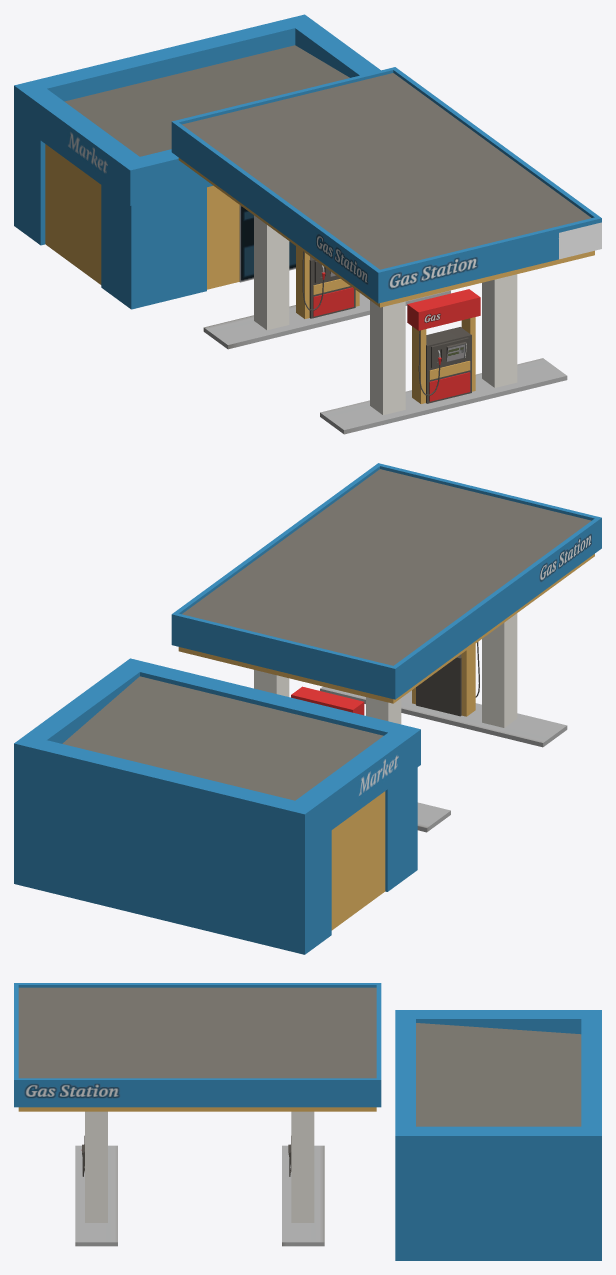
Rendered from Building_Gas Station.fbx.
The picture shows the model from 3 angles, top to bottom: view 1: azimuth 30°, elevation 25°; view 2: azimuth 150°, elevation 25°; view 3: azimuth 270°, elevation 25°; orthographic projection. The views are drawn at different scales.
Visible parts, largest first — view 1: Building_Gas Station; view 2: Building_Gas Station; view 3: Building_Gas Station.
Boxes of the visible parts, <box> form: Building_Gas Station: <box>14,14,601,434</box>; Building_Gas Station: <box>14,463,601,954</box>; Building_Gas Station: <box>14,983,601,1260</box>.
Bounding box in the file's own units: 1300 × 799 × 2560.
